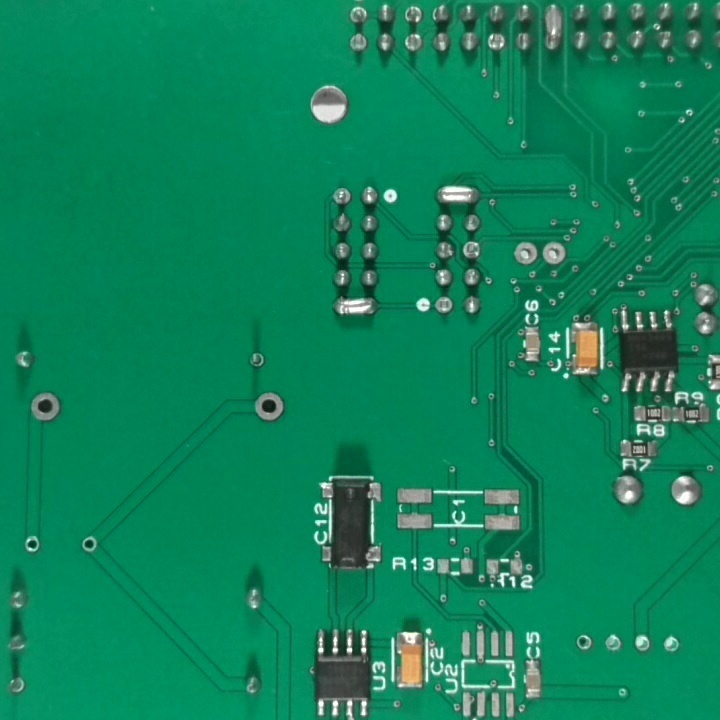F: (250, 390, 289, 424), (30, 391, 64, 426), (540, 238, 567, 269), (511, 239, 539, 268), (346, 3, 373, 29), (401, 3, 425, 28), (484, 31, 508, 55), (460, 240, 484, 263), (570, 632, 594, 655), (632, 632, 653, 658), (78, 535, 101, 557), (600, 633, 622, 656), (331, 186, 353, 207), (433, 295, 455, 316), (7, 675, 28, 697), (662, 633, 680, 658), (22, 535, 42, 555), (246, 349, 267, 368)
P: (541, 1, 567, 58), (330, 294, 383, 321), (432, 181, 481, 208)
